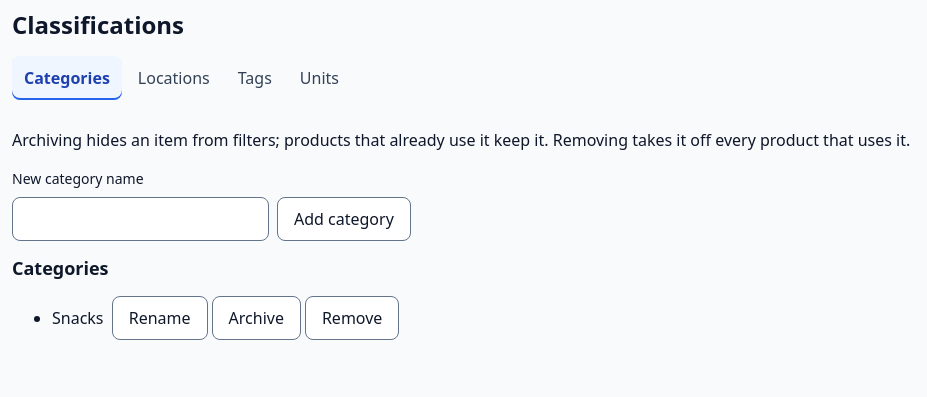
Test case: ClassificationsPage › Categories › archive and restore › shows a failure message if archiving fails
Click the button with aria-label "Archive Snacks" at (256, 318), box top-left (212, 296), bottom-right (301, 340)
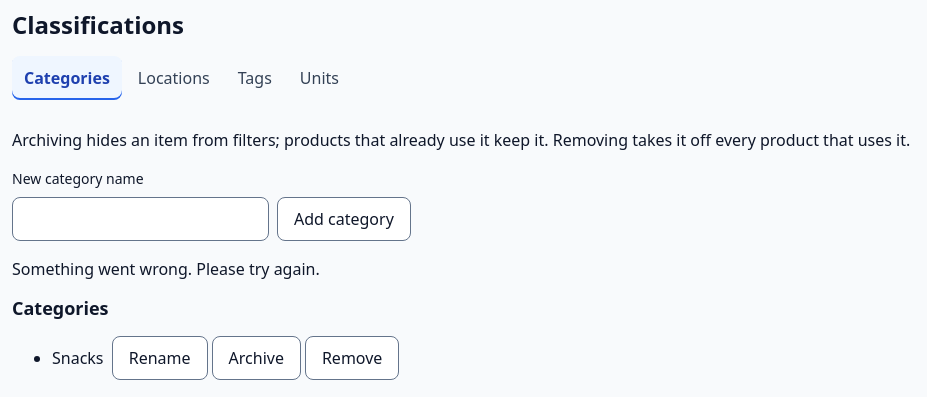
Now the message reads "Something went wrong. Please try again.", box top-left (12, 258), bottom-right (320, 280)
